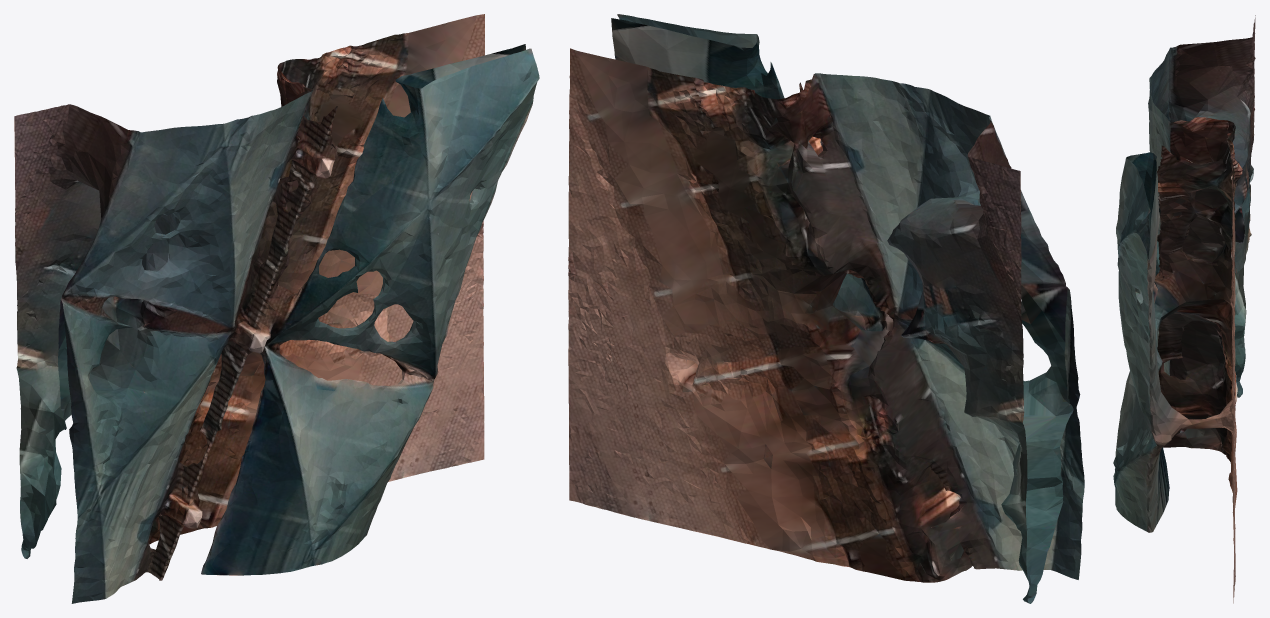
File: tile_5_12.obj
3 views of the same model, side by side, from view 1: azimuth 30°, elevation 25°; view 2: azimuth 150°, elevation 25°; view 3: azimuth 270°, elevation 25° (orthographic). The views are drawn at different scales.
Parts seen in each view (by area): view 1: texture_0; view 2: texture_0; view 3: texture_0.
Boxes of the visible parts, x1,y1,x2,y2 form: texture_0: (14,14,539,603); texture_0: (568,14,1084,603); texture_0: (1113,15,1255,603).
Size of the model in its own units: 13.88 by 12.92 by 4.25.
Materials: 1 (1 with a texture image).
